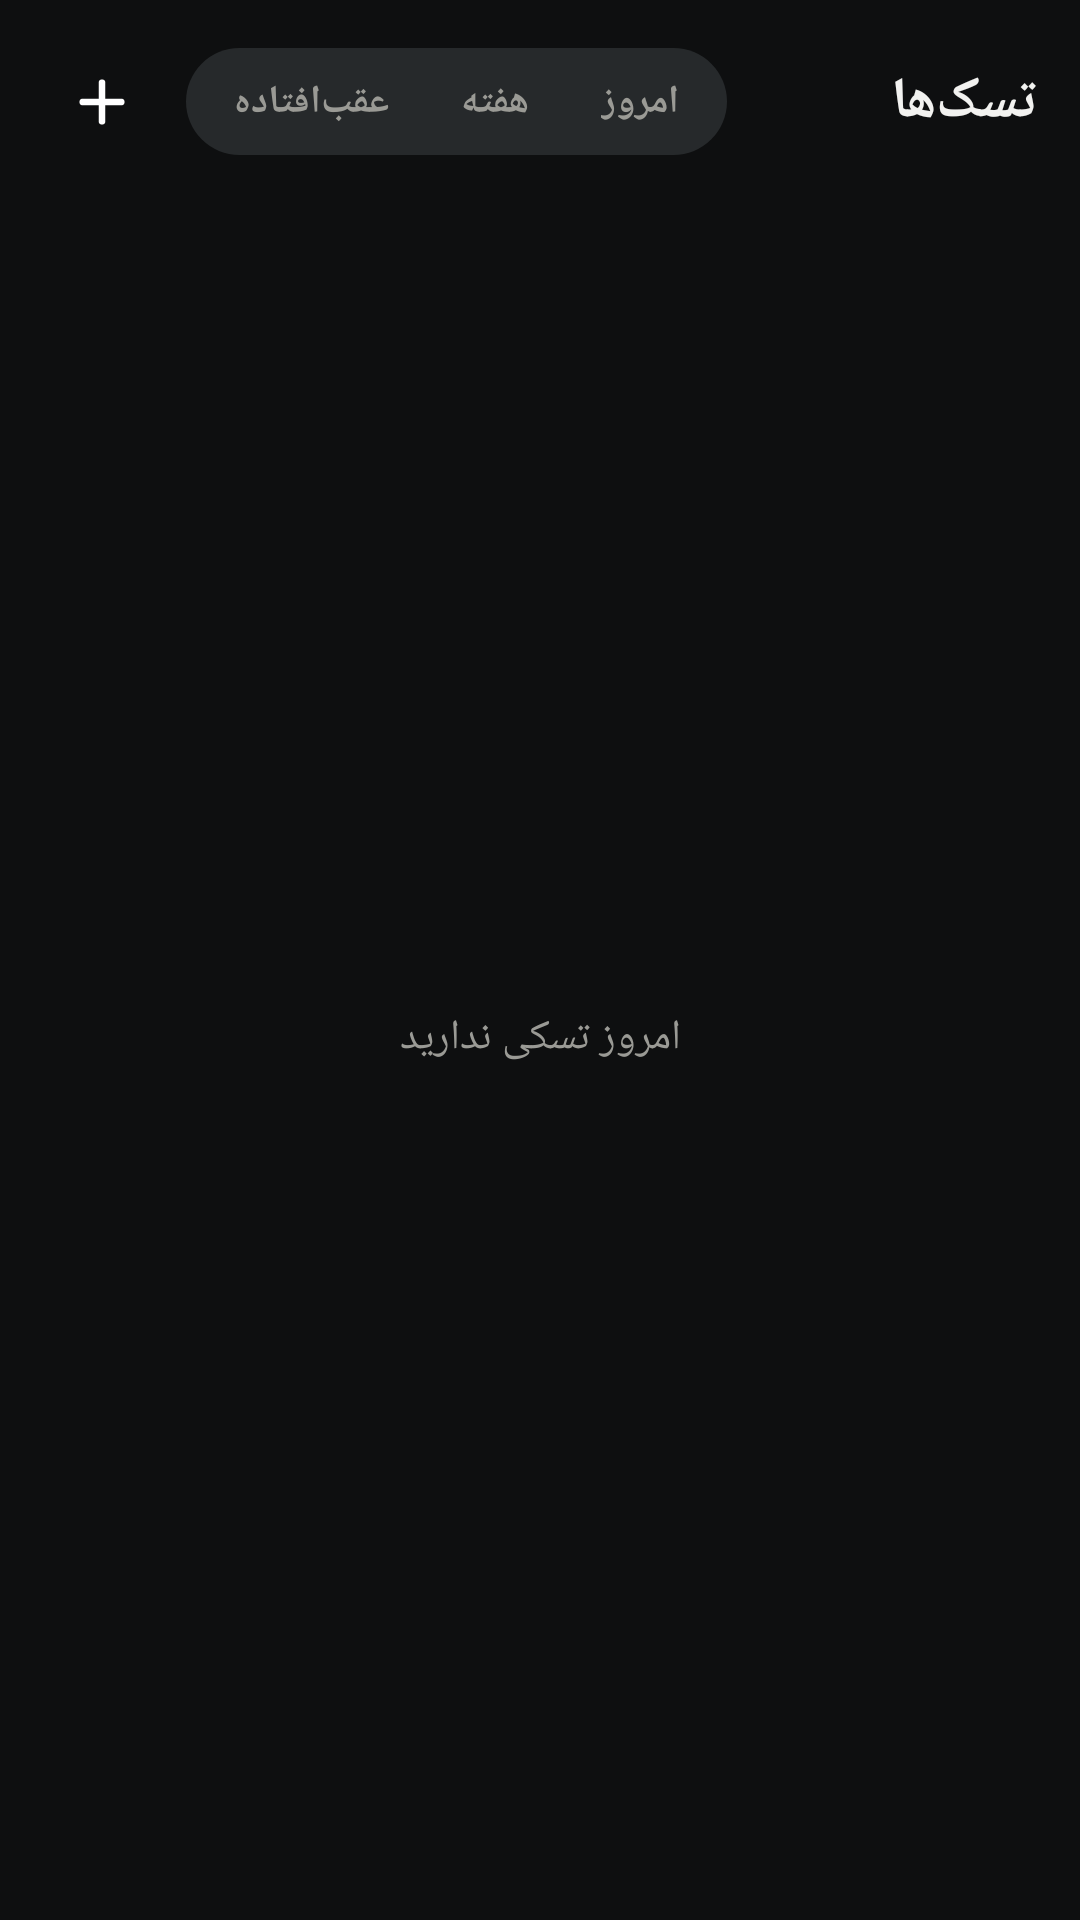

Where icons sit on this 1080w x 1920h app screen, as (x1, y1, x2, y2):
تسک جدید: (79, 79, 125, 125)
